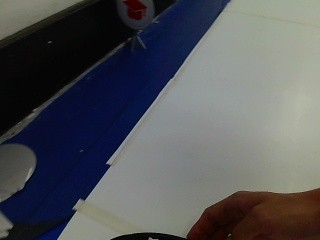school: (115, 0, 152, 30)
